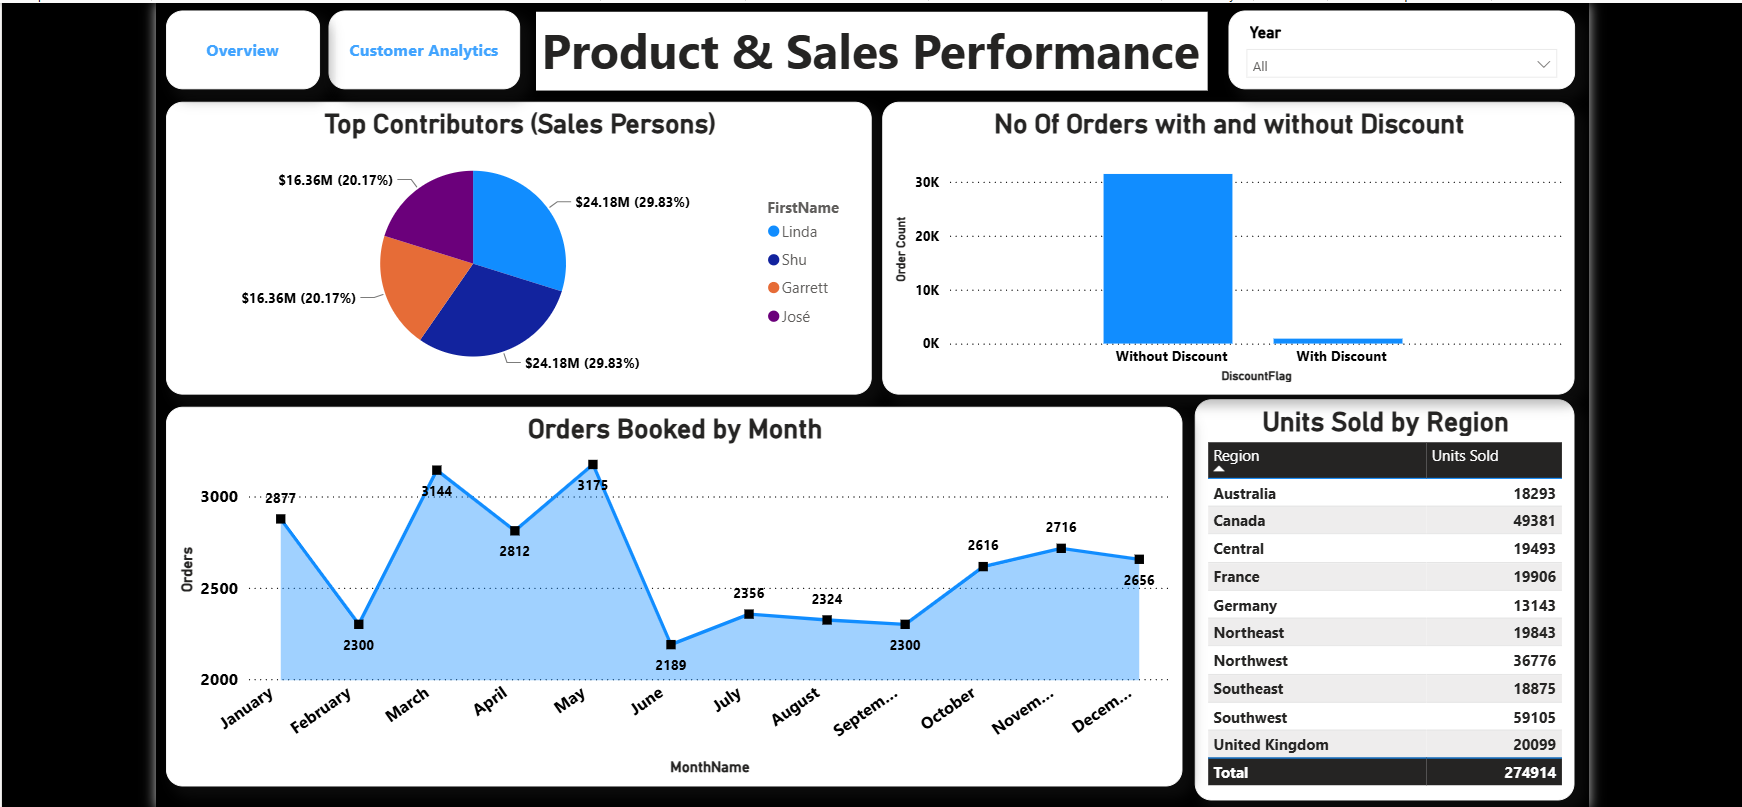

Layout of this report page (visuals, bound fields, positions):
{"tool":"powerbi","page":{"name":"Product & Sales Performance","canvas":[1280,720],"ordinal":1},"visuals":[{"type":"tableEx","title":"Units Sold by Region","fields":{"Values":["Sales_SalesTerritory.Region","calculations.Units Sold"]},"box":[927.9,353.5,339.5,358.1],"z":0},{"type":"pieChart","title":"Top Contributors (Sales Persons)","fields":{"Category":["Person_Person.FirstName"],"Y":["calculations.Revenue"]},"box":[9.3,88.4,630.2,261.6],"z":1000},{"type":"columnChart","title":"No Of Orders with and without Discount","fields":{"Category":["Sales_SalesOrderDetail.DiscountFlag"],"Y":["calculations.Orders"]},"box":[648.8,88.4,618.6,261.6],"z":2000},{"type":"lineChart","title":"Orders Booked by Month","fields":{"Category":["DateTable.MonthName"],"Y":["calculations.Orders"]},"box":[9.3,360.5,908.1,339.5],"z":3000},{"type":"slicer","title":"Year","fields":{"Values":["DateTable.Year"]},"box":[958.1,6.7,309.3,70.3],"z":4000},{"type":"actionButton","box":[154.1,6.7,170.8,70.3],"z":5000},{"type":"actionButton","box":[8.9,6.7,137.3,70.3],"z":6000},{"type":"textbox","box":[339.5,8.1,600.4,70.1],"z":7000}]}

Visuals, with their boxes in screenshot pixels (x1, y1, x2, y2):
"Units Sold by Region" tableEx: [left=1185, top=391, right=1561, bottom=787]
"Top Contributors (Sales Persons)" pieChart: [left=169, top=98, right=866, bottom=387]
"No Of Orders with and without Discount" columnChart: [left=876, top=98, right=1561, bottom=387]
"Orders Booked by Month" lineChart: [left=169, top=399, right=1173, bottom=774]
"Year" slicer: [left=1218, top=7, right=1561, bottom=85]
actionButton: [left=329, top=7, right=518, bottom=85]
actionButton: [left=169, top=7, right=320, bottom=85]
textbox: [left=534, top=9, right=1198, bottom=86]
